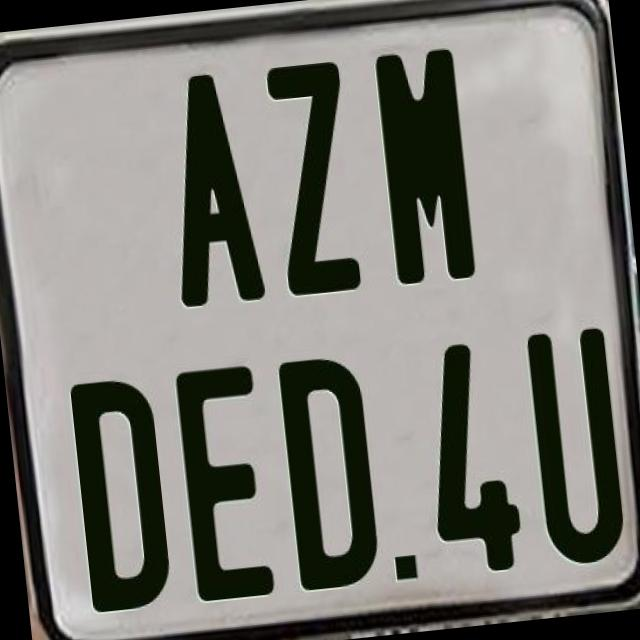4: (417, 338, 531, 580)
A: (157, 70, 271, 312)
D: (68, 371, 178, 616), (274, 350, 384, 591)
E: (173, 362, 276, 610)
M: (372, 46, 482, 294)
U: (522, 327, 626, 573)
Z: (262, 58, 366, 300)
